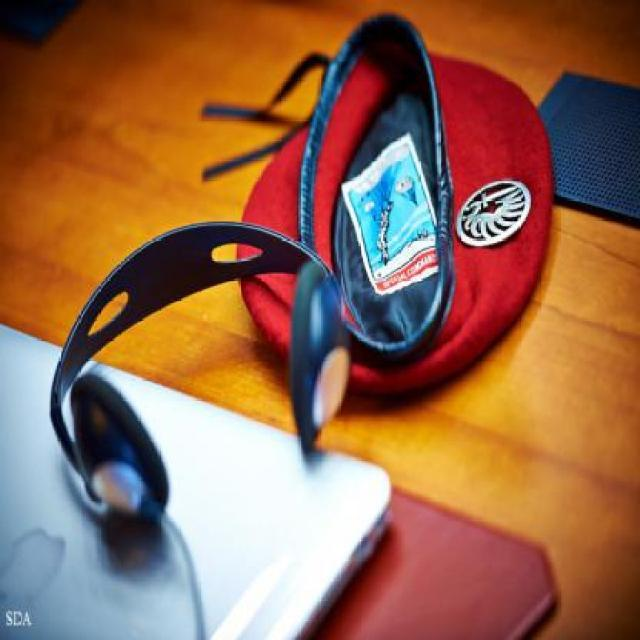earphone: (57, 226, 350, 512)
